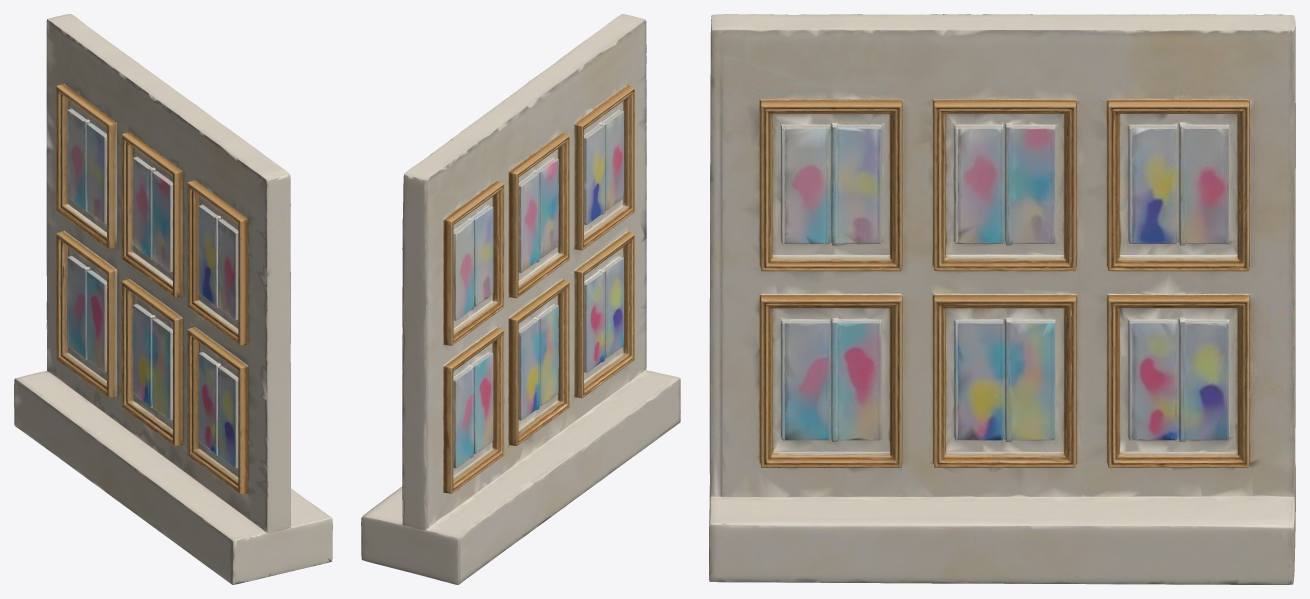
3 renders of one model, left to right at view 1: azimuth 30°, elevation 25°; view 2: azimuth 150°, elevation 25°; view 3: azimuth 270°, elevation 25°, orthographic. The views are drawn at different scales.
Parts seen in each view (by area): view 1: tripo_node_1bb3baee-c8a2-4899-8549-fe44a25d0be9; view 2: tripo_node_1bb3baee-c8a2-4899-8549-fe44a25d0be9; view 3: tripo_node_1bb3baee-c8a2-4899-8549-fe44a25d0be9.
Boxes of the visible parts, x1,y1,x2,y2 form: tripo_node_1bb3baee-c8a2-4899-8549-fe44a25d0be9: (14, 14, 332, 584); tripo_node_1bb3baee-c8a2-4899-8549-fe44a25d0be9: (361, 14, 680, 584); tripo_node_1bb3baee-c8a2-4899-8549-fe44a25d0be9: (709, 14, 1295, 584).
Size of the model in its own units: 0.2581 by 0.9769 by 0.98.
Materials: 1 (1 with a texture image).
